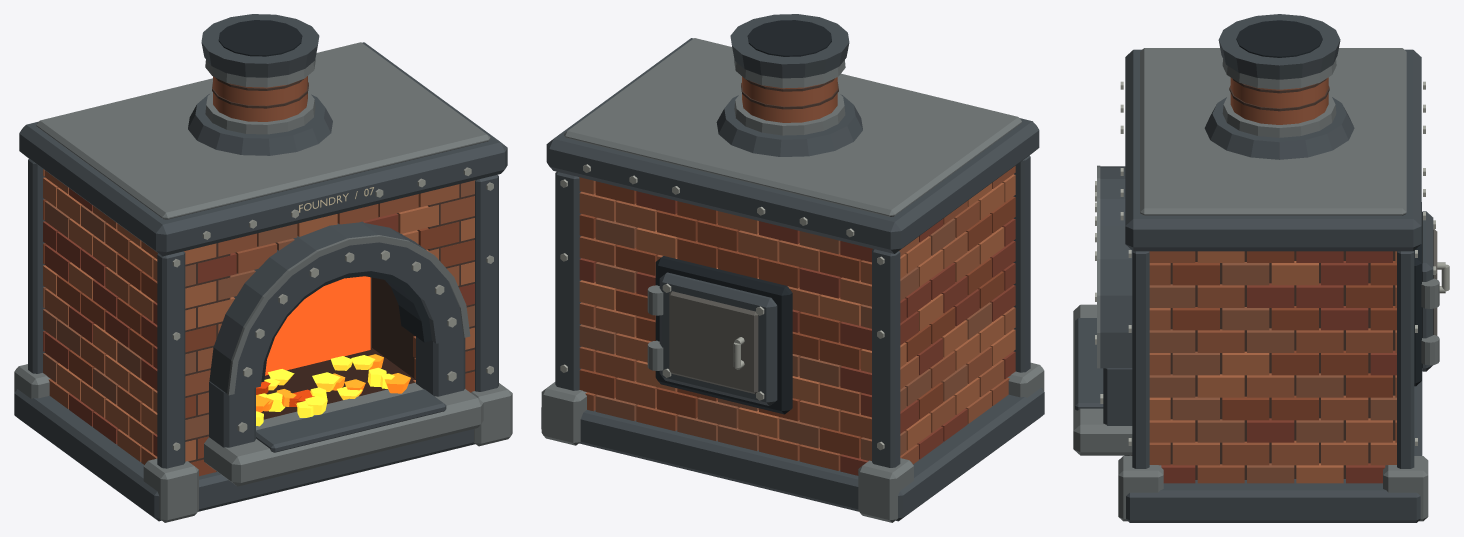
Rendered from wsc-prop-057-foundry-furnace.glb.
3 views of the same model, side by side, from view 1: azimuth 30°, elevation 25°; view 2: azimuth 150°, elevation 25°; view 3: azimuth 270°, elevation 25° (orthographic). The views are drawn at different scales.
Visible parts, largest first — view 1: Graphite castwork, Braised gunmetal edges, Kiln brick batch 3, Kiln brick batch 0, Kiln brick batch 4, Kiln brick batch 1, Back chamber refractory glow, Kiln brick batch 5, Iron-dark pressed mortar, Carbon gasket, Kiln brick batch 2, Banked embers 2 (+3 smaller); view 2: Graphite castwork, Braised gunmetal edges, Kiln brick batch 1, Kiln brick batch 0, Kiln brick batch 4, Kiln brick batch 5, Kiln brick batch 2, Kiln brick batch 3, Carbon gasket, Warm counterweight gray, Worn zinc fasteners, Iron-dark pressed mortar; view 3: Graphite castwork, Braised gunmetal edges, Kiln brick batch 5, Kiln brick batch 0, Kiln brick batch 1, Kiln brick batch 4, Kiln brick batch 2, Kiln brick batch 3, Iron-dark pressed mortar, Carbon gasket, Worn zinc fasteners.
Boxes of the visible parts, box(x1,y1,x2,y2) form: Graphite castwork: box(14, 14, 507, 521); Braised gunmetal edges: box(14, 42, 512, 522); Kiln brick batch 3: box(43, 169, 474, 461); Kiln brick batch 0: box(48, 76, 474, 464); Kiln brick batch 4: box(43, 188, 474, 456); Kiln brick batch 1: box(43, 199, 474, 476); Back chamber refractory glow: box(265, 276, 370, 375); Kiln brick batch 5: box(43, 180, 475, 439); Iron-dark pressed mortar: box(185, 78, 474, 471); Carbon gasket: box(218, 20, 431, 382); Kiln brick batch 2: box(44, 170, 459, 461); Banked embers 2: box(256, 355, 394, 426); Graphite castwork: box(541, 14, 1044, 521); Braised gunmetal edges: box(541, 38, 1044, 522); Kiln brick batch 1: box(579, 181, 1015, 458); Kiln brick batch 0: box(579, 76, 1015, 470); Kiln brick batch 4: box(579, 191, 1015, 475); Kiln brick batch 5: box(579, 217, 991, 460); Kiln brick batch 2: box(579, 177, 1015, 432); Kiln brick batch 3: box(579, 174, 1015, 450); Carbon gasket: box(655, 20, 831, 414); Warm counterweight gray: box(669, 291, 758, 394); Worn zinc fasteners: box(560, 164, 884, 450); Iron-dark pressed mortar: box(741, 78, 838, 109); Graphite castwork: box(1075, 14, 1433, 522); Braised gunmetal edges: box(1073, 48, 1439, 521); Kiln brick batch 5: box(1149, 262, 1396, 483); Kiln brick batch 0: box(1149, 77, 1396, 483); Kiln brick batch 1: box(1172, 251, 1396, 420); Kiln brick batch 4: box(1161, 251, 1396, 483); Kiln brick batch 2: box(1149, 308, 1396, 465); Kiln brick batch 3: box(1149, 251, 1396, 483); Iron-dark pressed mortar: box(1170, 78, 1395, 479); Carbon gasket: box(1236, 20, 1421, 386); Worn zinc fasteners: box(1095, 81, 1449, 445).
Size of the model in its own units: 2.72 by 2.81 by 2.41.
